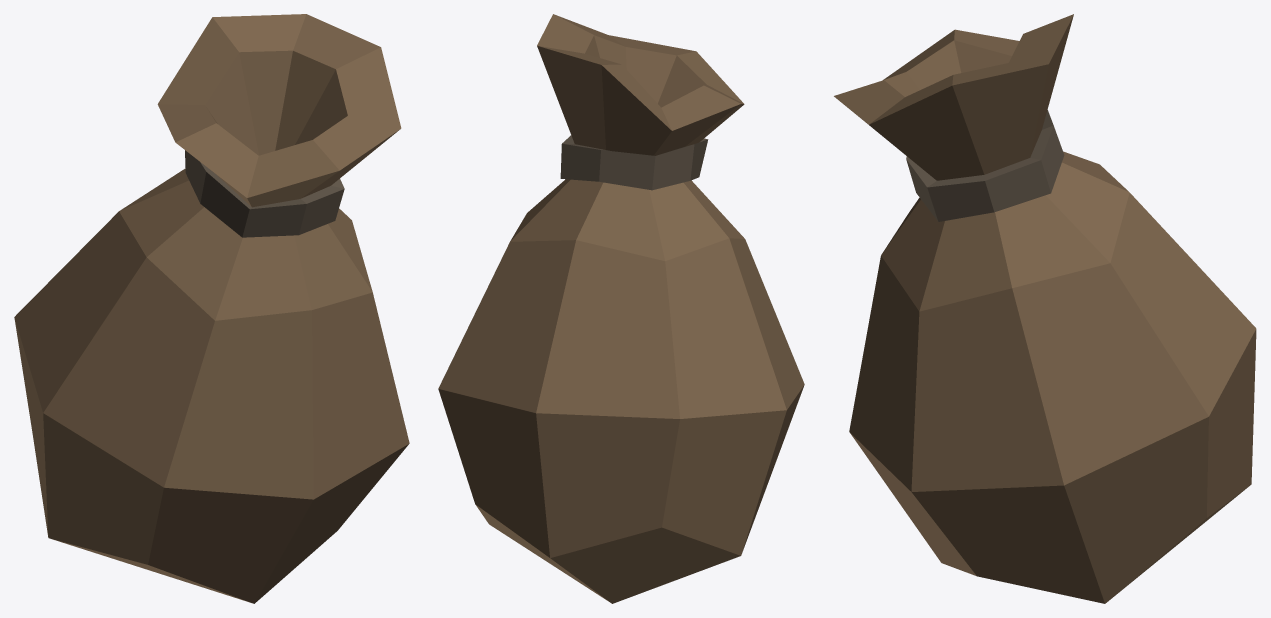
The model's file is Chr_HipsAttachment_01_Static.fbx.
The picture shows the model from 3 angles, left to right: view 1: azimuth 30°, elevation 25°; view 2: azimuth 150°, elevation 25°; view 3: azimuth 270°, elevation 25°; orthographic projection. The views are drawn at different scales.
Visible parts, largest first — view 1: Chr_HipsAttachment_01_Static; view 2: Chr_HipsAttachment_01_Static; view 3: Chr_HipsAttachment_01_Static.
Part boxes in pixels (left/top/right/bottom): Chr_HipsAttachment_01_Static: left=14, top=14, right=409, bottom=603; Chr_HipsAttachment_01_Static: left=438, top=14, right=804, bottom=603; Chr_HipsAttachment_01_Static: left=834, top=14, right=1256, bottom=603.
Size of the model in its own units: 0.131 by 0.2021 by 0.1321.
